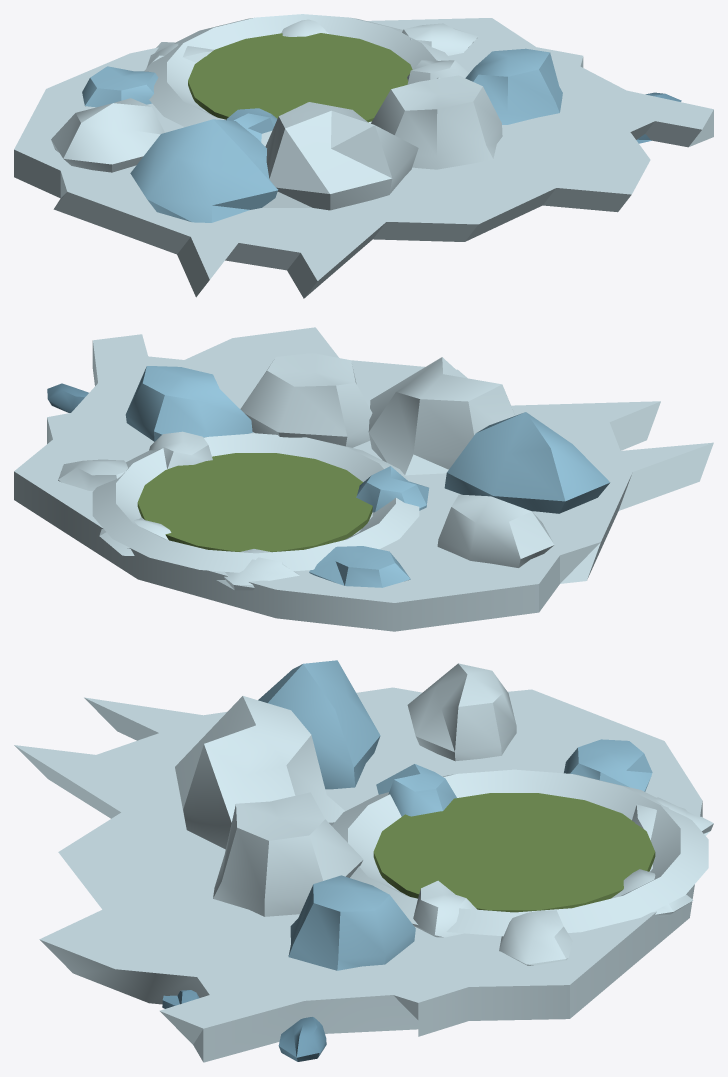
Rendered from lithium-brine.glb.
The picture shows the model from 3 angles, top to bottom: view 1: azimuth 30°, elevation 25°; view 2: azimuth 150°, elevation 25°; view 3: azimuth 270°, elevation 25°; orthographic projection. The views are drawn at different scales.
Parts seen in each view (by area): view 1: body; view 2: body; view 3: body.
Part boxes in pixels (box(x1,y1,x2,y2)): body: box(14, 14, 713, 298); body: box(14, 327, 713, 631); body: box(14, 660, 713, 1062).
Bounding box in the file's own units: 1.74 × 0.2895 × 1.49.
